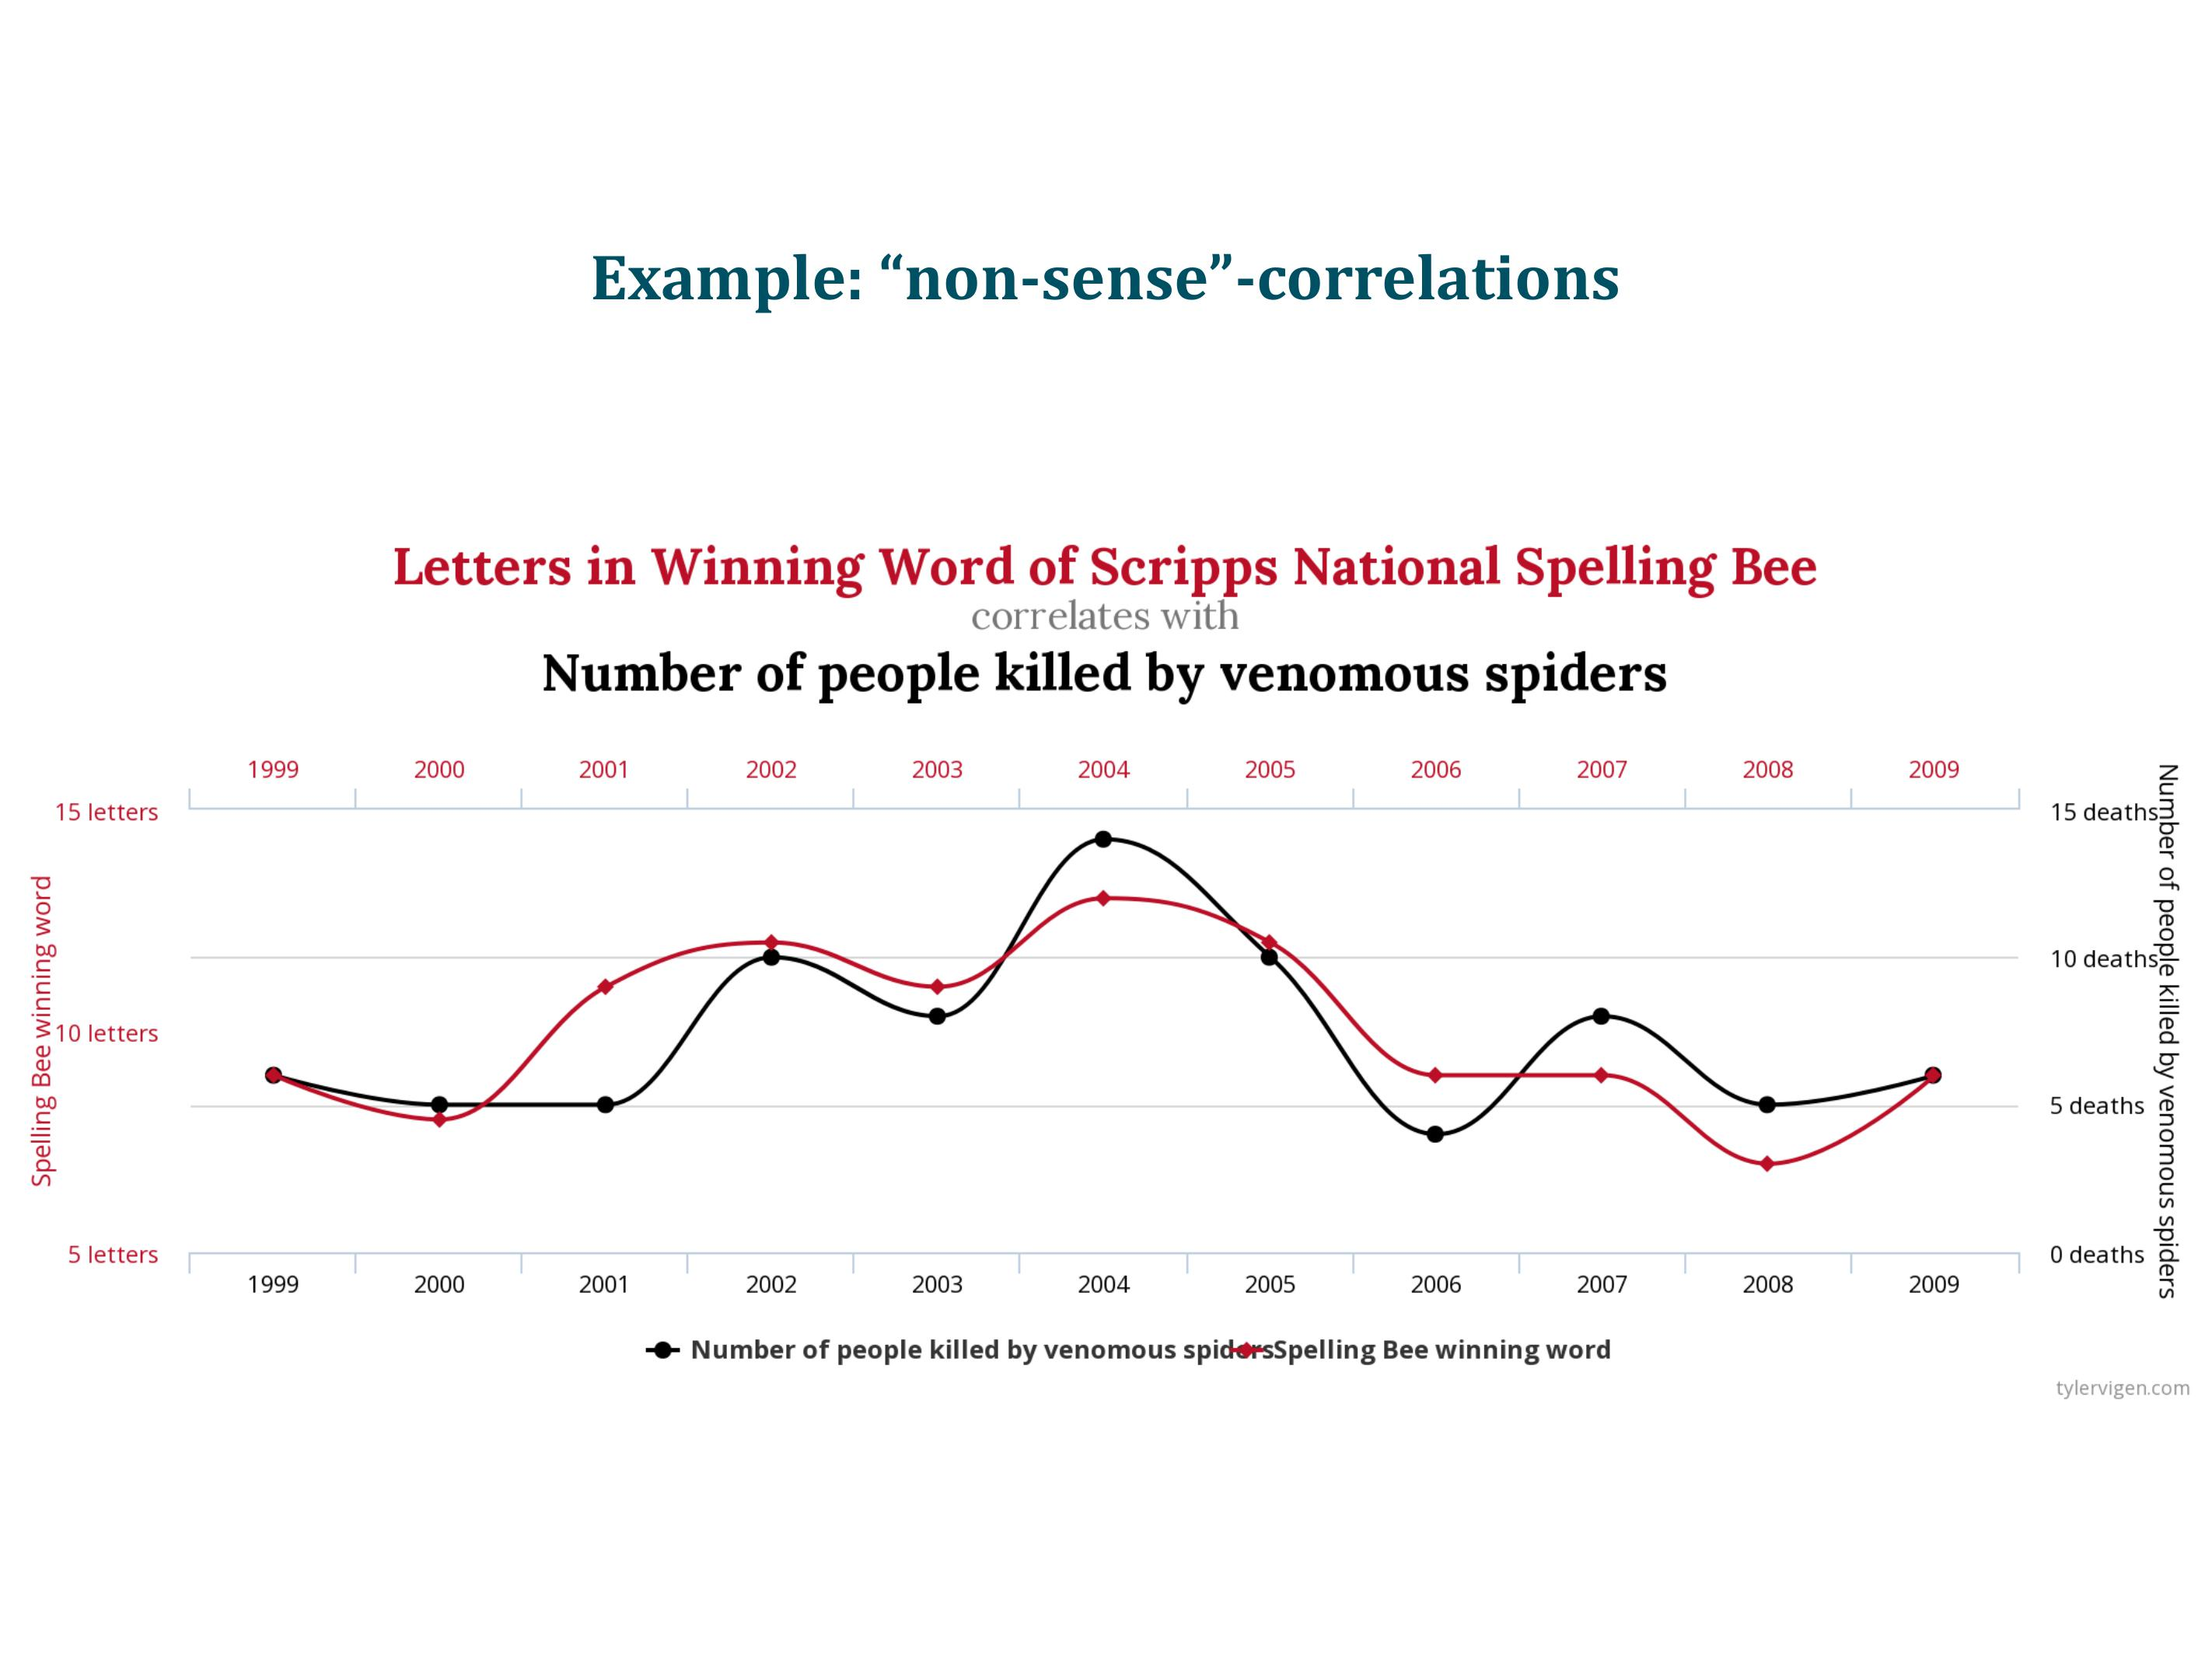Title: (560, 216, 1651, 328)
